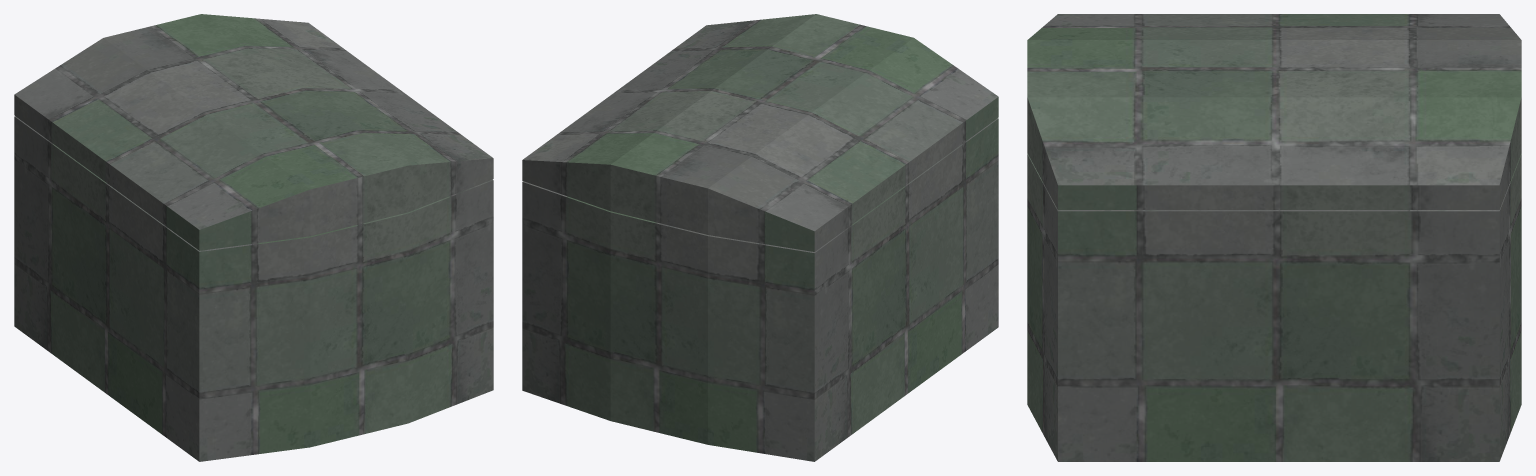
File: ammopack.fbx
3 views of the same model, side by side, from view 1: azimuth 30°, elevation 25°; view 2: azimuth 150°, elevation 25°; view 3: azimuth 270°, elevation 25° (orthographic). The views are drawn at different scales.
Visible parts, largest first — view 1: Plane.037; view 2: Plane.037; view 3: Plane.037.
Part boxes in pixels (left/top/right/bottom): Plane.037: left=14, top=14, right=493, bottom=461; Plane.037: left=522, top=14, right=998, bottom=461; Plane.037: left=1027, top=14, right=1521, bottom=461.
Size of the model in its own units: 29.52 by 24.74 by 36.
1 material, 1 textured.
